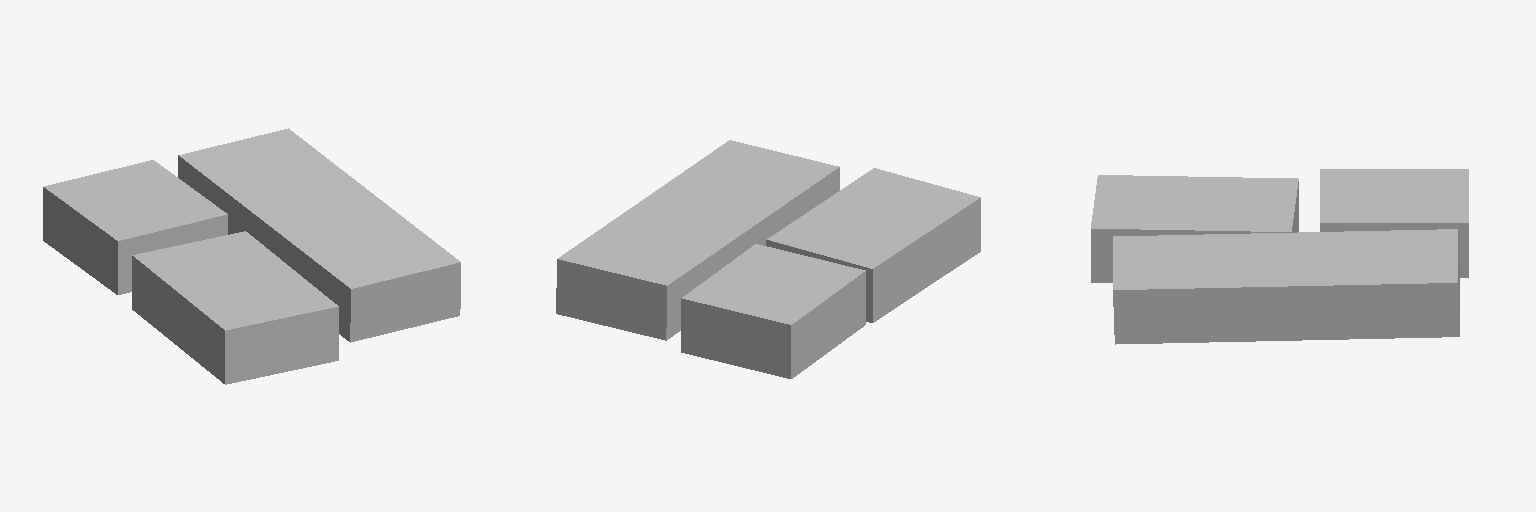
Rendered from road03.obj.
The picture shows the model from 3 angles: view 1: azimuth 30°, elevation 25°; view 2: azimuth 150°, elevation 25°; view 3: azimuth 270°, elevation 25°; orthographic projection.
Parts seen in each view (by area): view 1: road05:pCube33; view 2: road05:pCube33; view 3: road05:pCube33.
Part boxes in pixels (left/top/right/bottom): road05:pCube33: left=43, top=128, right=460, bottom=384; road05:pCube33: left=556, top=140, right=980, bottom=378; road05:pCube33: left=1091, top=169, right=1468, bottom=344.
Size of the model in its own units: 12.21 by 3.12 by 16.44.